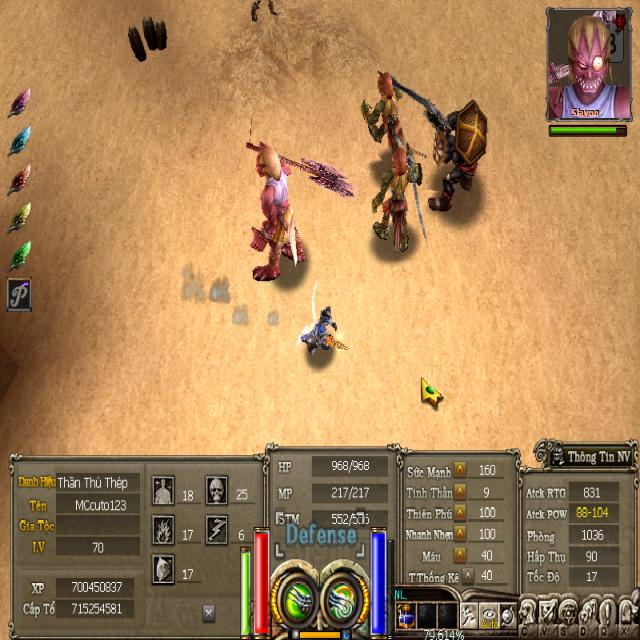monster: (235, 124, 313, 281), (428, 94, 496, 214), (353, 66, 419, 148), (374, 149, 424, 254)
